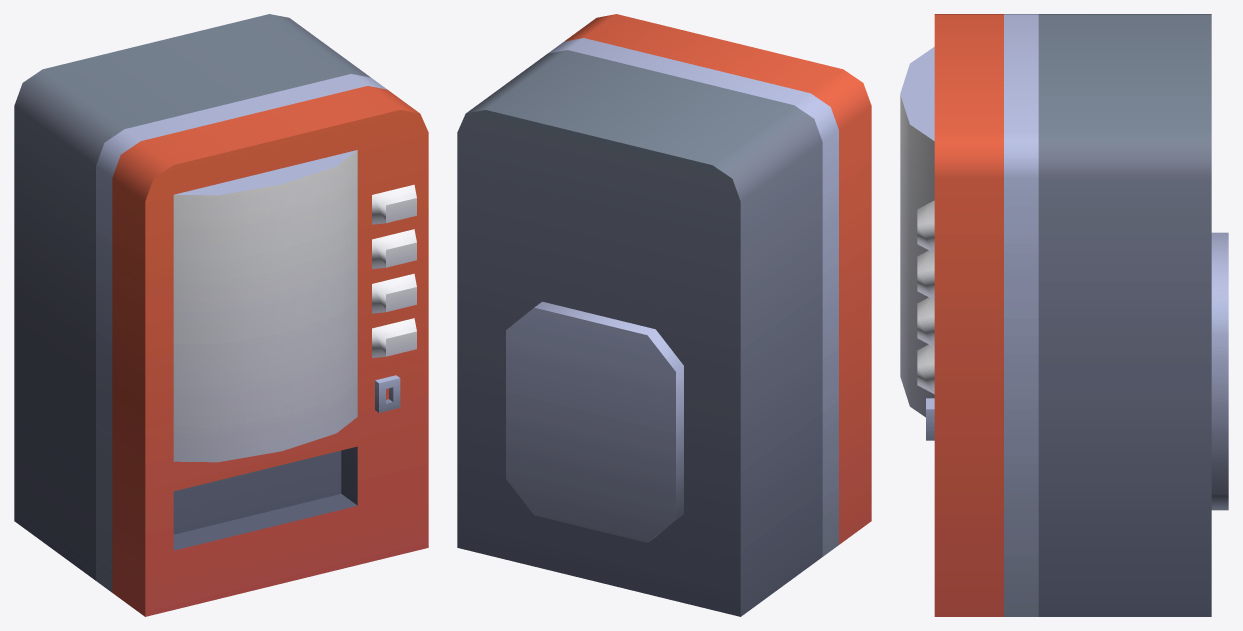
The model's file is arcade.vending_machine.glb.
3 renders of one model, left to right at view 1: azimuth 30°, elevation 25°; view 2: azimuth 150°, elevation 25°; view 3: azimuth 270°, elevation 25°, orthographic. The views are drawn at different scales.
Visible parts, largest first — view 1: vending-machine; view 2: vending-machine; view 3: vending-machine.
Boxes of the visible parts, <box> form: vending-machine: <box>14,14,428,616</box>; vending-machine: <box>457,14,871,616</box>; vending-machine: <box>900,14,1228,616</box>.
Size of the model in its own units: 1.24 by 1.86 by 1.18.
1 material, 1 textured.
